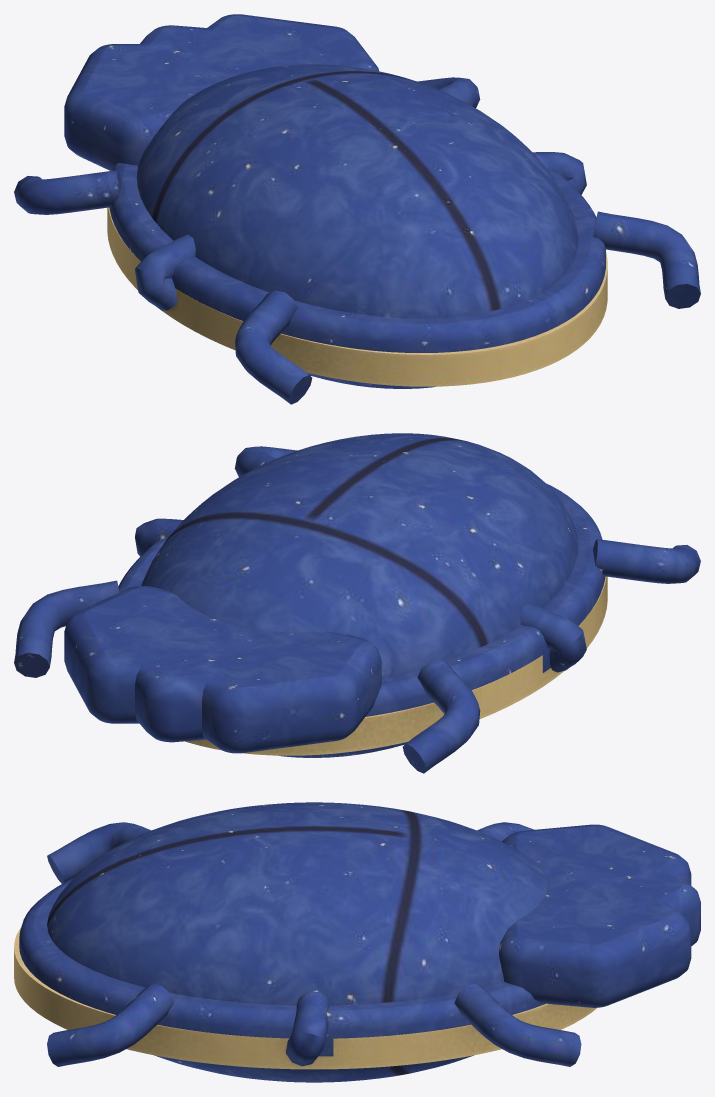
The model's file is heart_scarab.glb.
3 views of the same model, one above another, from view 1: azimuth 30°, elevation 25°; view 2: azimuth 150°, elevation 25°; view 3: azimuth 270°, elevation 25° (orthographic). The views are drawn at different scales.
Parts seen in each view (by area): view 1: heart_scarab; view 2: heart_scarab; view 3: heart_scarab.
Part boxes in pixels (x1,y1,x2,y2): heart_scarab: [14, 14, 700, 404]; heart_scarab: [14, 433, 700, 773]; heart_scarab: [14, 802, 700, 1082].
Bounding box in the file's own units: 0.0514 × 0.026 × 0.0711.
Materials: 1 (1 with a texture image).
